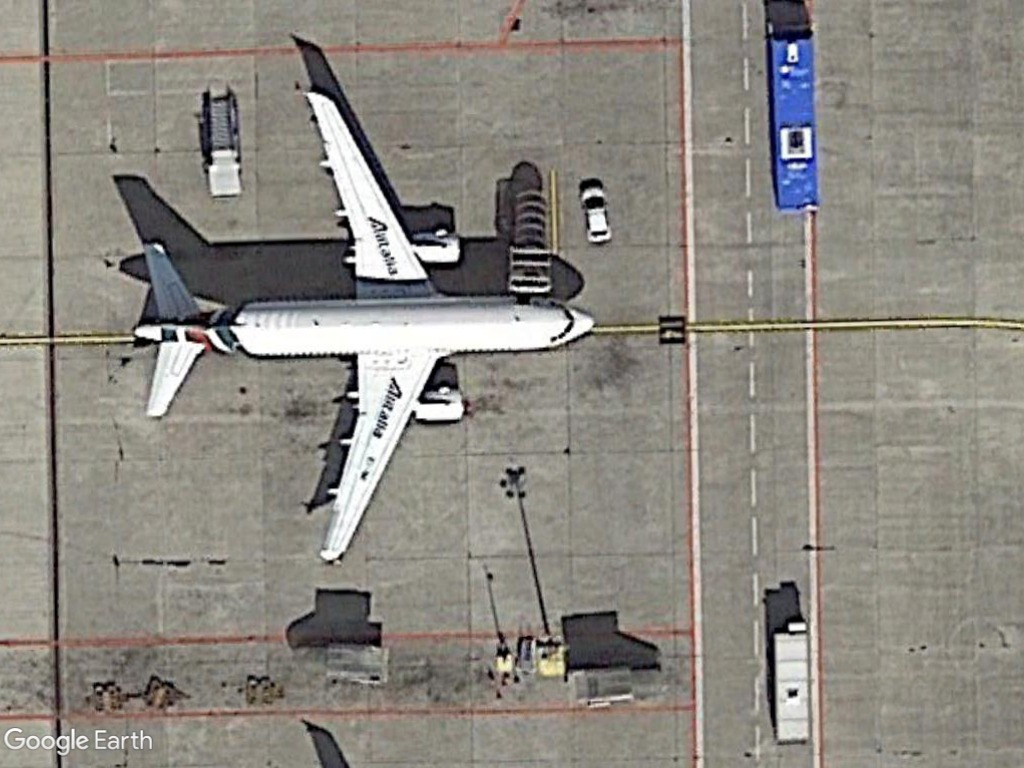airliner: (119, 78, 599, 574)
bus: (762, 28, 822, 211)
car: (576, 182, 614, 249)
stairtruck: (200, 85, 249, 199)
